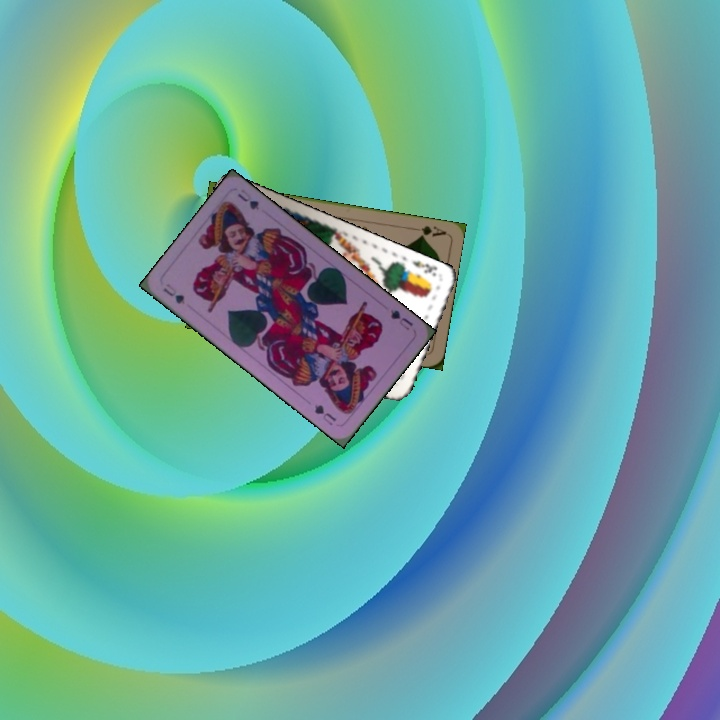EK: (408, 257, 439, 279)
GA: (408, 222, 448, 240)
GU: (386, 305, 416, 333), (159, 279, 188, 307)
